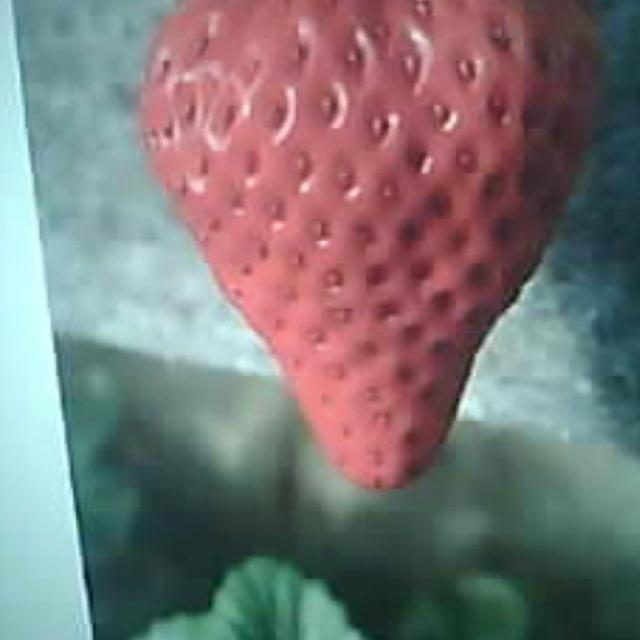Healthy Fruit: (133, 0, 604, 491)
